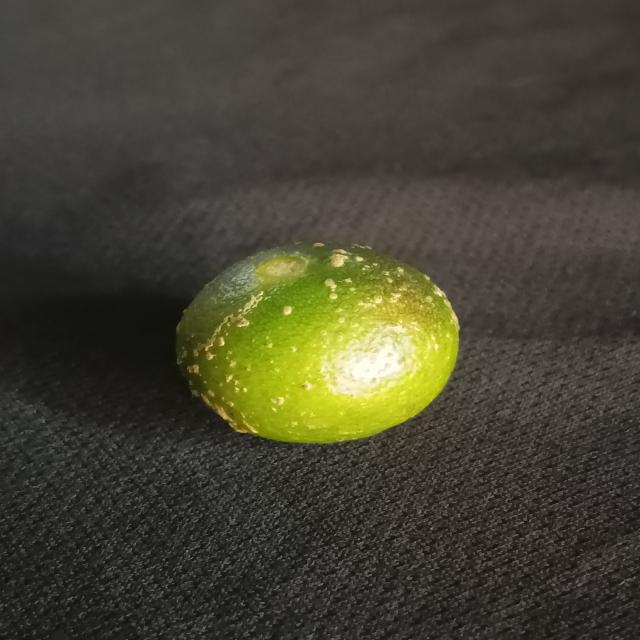scab: (166, 236, 465, 444)
